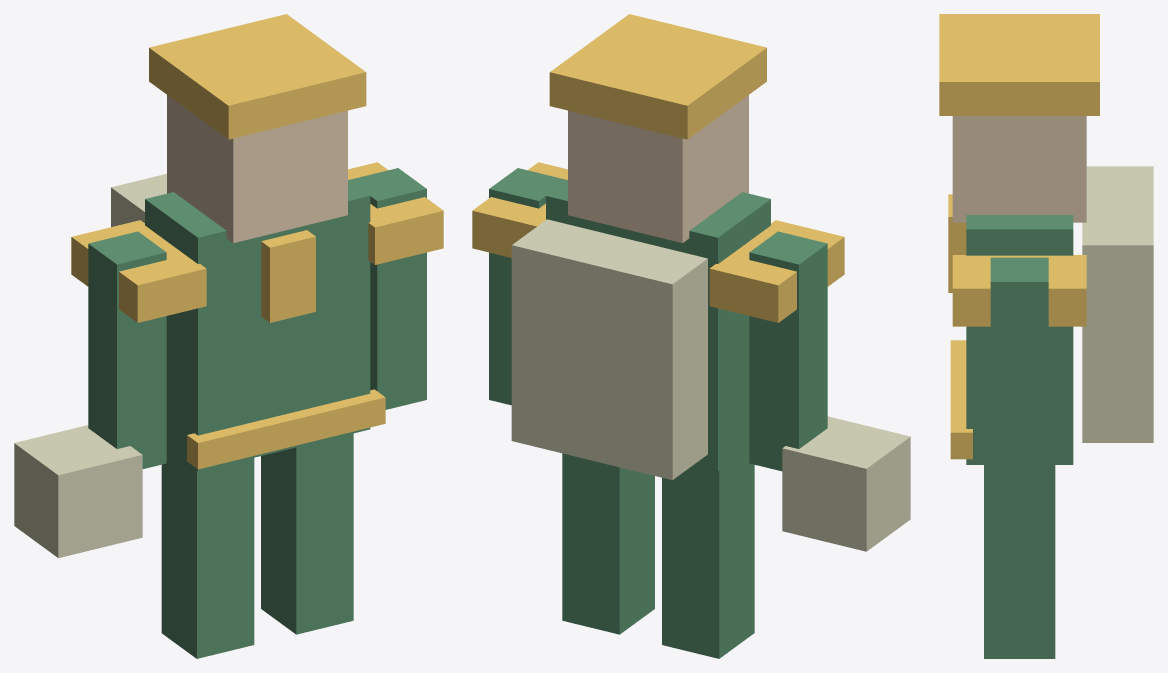
The model's file is 10_vela_holloway_broker_from.glb.
The picture shows the model from 3 angles, left to right: view 1: azimuth 30°, elevation 25°; view 2: azimuth 150°, elevation 25°; view 3: azimuth 270°, elevation 25°; orthographic projection.
Parts seen in each view (by area): view 1: Vela Holloway, Broker from; view 2: Vela Holloway, Broker from; view 3: Vela Holloway, Broker from.
Part boxes in pixels (x1=…): Vela Holloway, Broker from: x1=14, y1=14, x2=443, y2=658; Vela Holloway, Broker from: x1=472, y1=14, x2=910, y2=658; Vela Holloway, Broker from: x1=939, y1=14, x2=1153, y2=658.
Size of the model in its own units: 1.06 by 1.51 by 0.5115.
